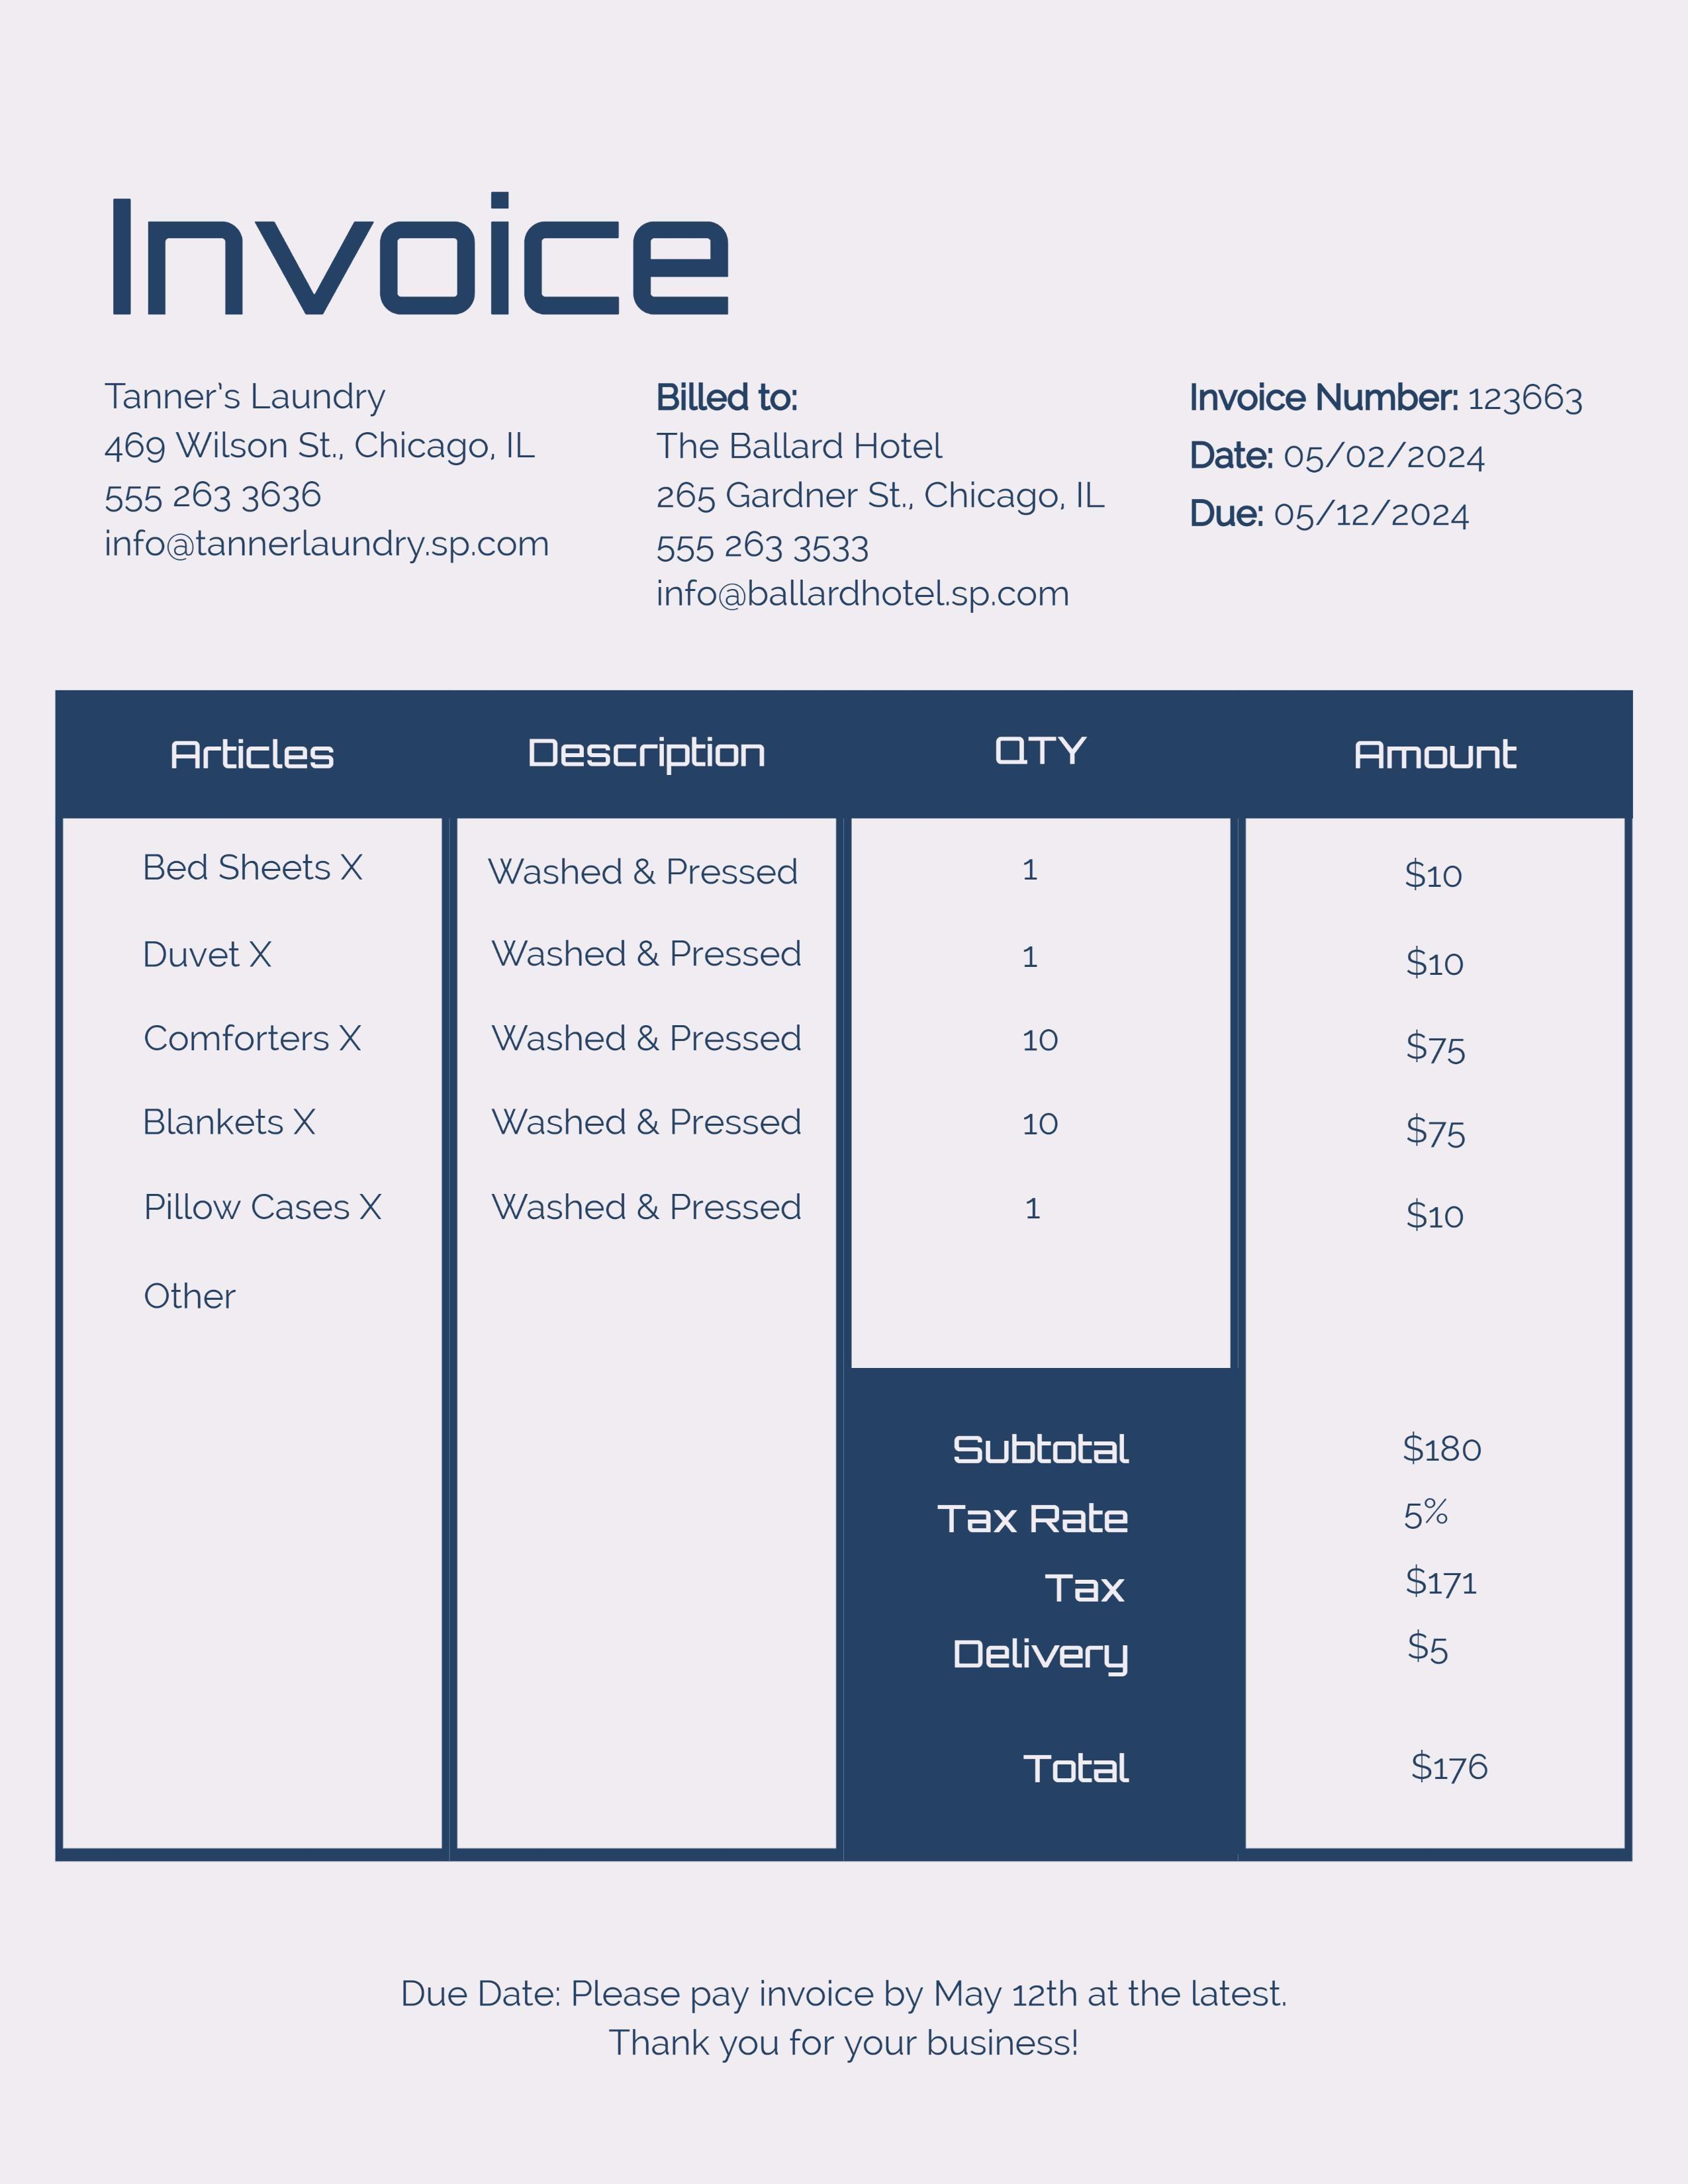ROI: (133, 729, 1527, 1328), (931, 1416, 1497, 1790), (656, 374, 1096, 626), (385, 1966, 1321, 2072), (96, 374, 566, 583), (1181, 374, 1592, 542)
